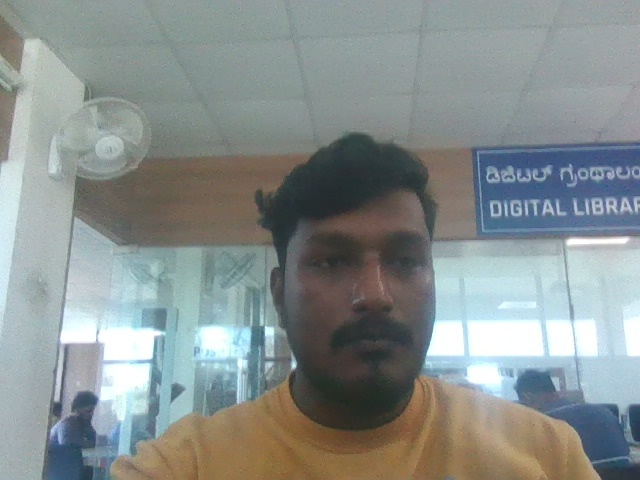real: (254, 119, 462, 414)
